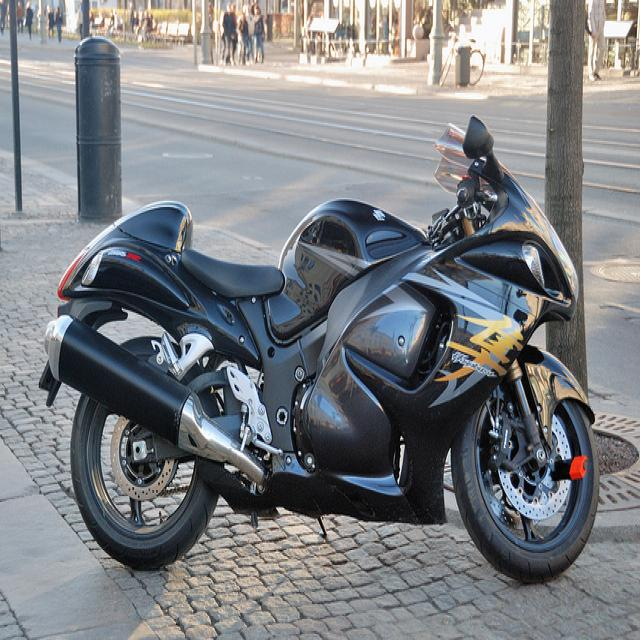motor: (36, 115, 604, 583)
